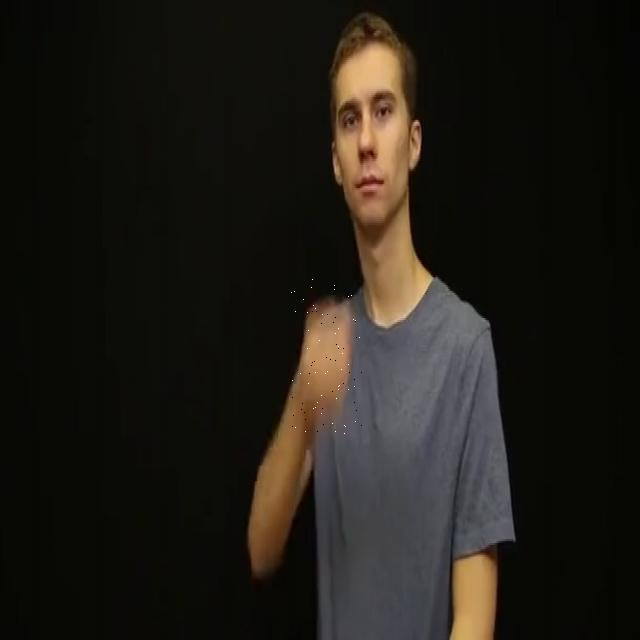icecream: (290, 278, 362, 434)
